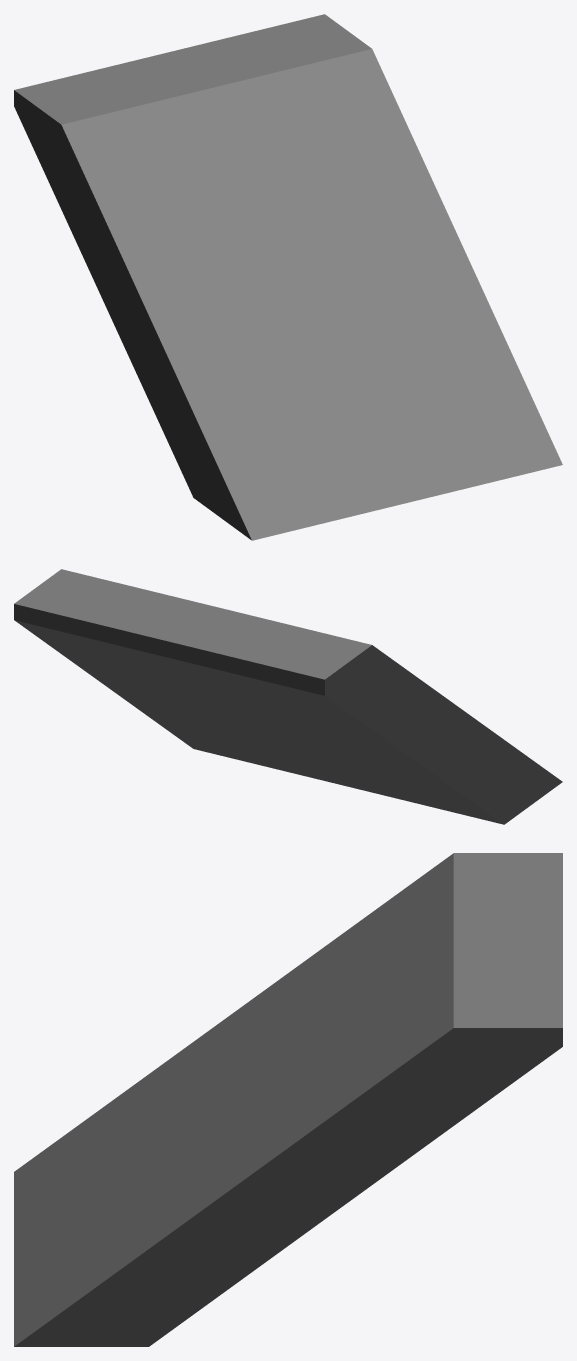
File: SW_ENV_StationStair_Steps_4_Collision.fbx
3 renders of one model, top to bottom at view 1: azimuth 30°, elevation 25°; view 2: azimuth 150°, elevation 25°; view 3: azimuth 270°, elevation 25°, orthographic. The views are drawn at different scales.
Parts seen in each view (by area): view 1: SW_ENV_StationStair_Steps_4_Collision; view 2: SW_ENV_StationStair_Steps_4_Collision; view 3: SW_ENV_StationStair_Steps_4_Collision.
Boxes of the visible parts, x1,y1,x2,y2 form: SW_ENV_StationStair_Steps_4_Collision: [14, 14, 562, 540]; SW_ENV_StationStair_Steps_4_Collision: [14, 569, 562, 824]; SW_ENV_StationStair_Steps_4_Collision: [14, 853, 562, 1346].
Size of the model in its own units: 100 by 85 by 133.
